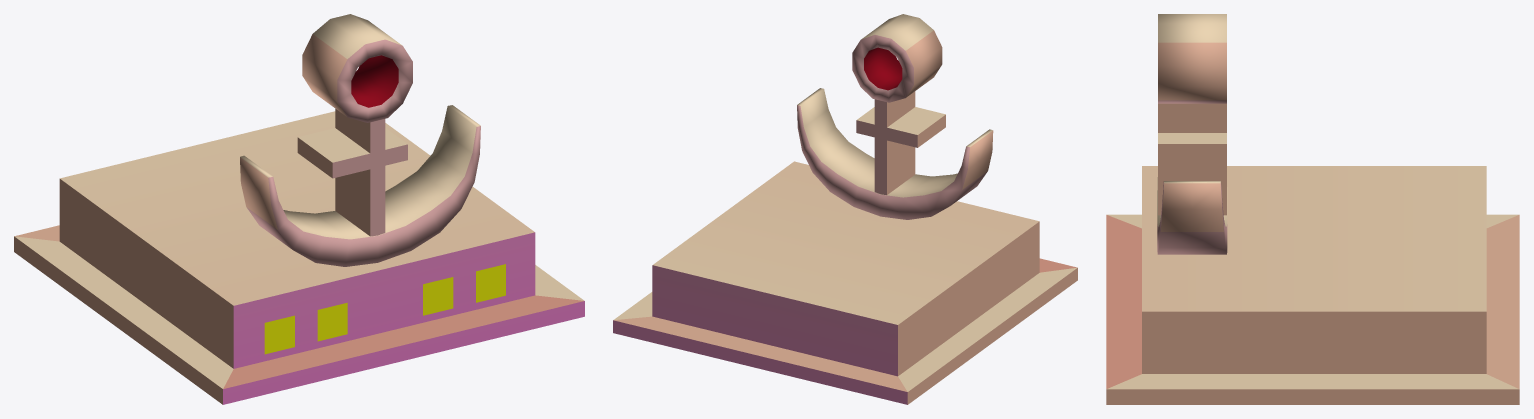
The model's file is Port.WhiteNova.glb.
3 views of the same model, side by side, from view 1: azimuth 30°, elevation 25°; view 2: azimuth 150°, elevation 25°; view 3: azimuth 270°, elevation 25° (orthographic). The views are drawn at different scales.
Parts seen in each view (by area): view 1: Port.WhiteNova; view 2: Port.WhiteNova; view 3: Port.WhiteNova.
Part boxes in pixels (<box>): Port.WhiteNova: <box>14,14,584,404</box>; Port.WhiteNova: <box>613,14,1077,404</box>; Port.WhiteNova: <box>1106,14,1519,404</box>.
Bounding box in the file's own units: 2.4 × 1.9 × 2.4.
Materials: 2 (1 with a texture image).
